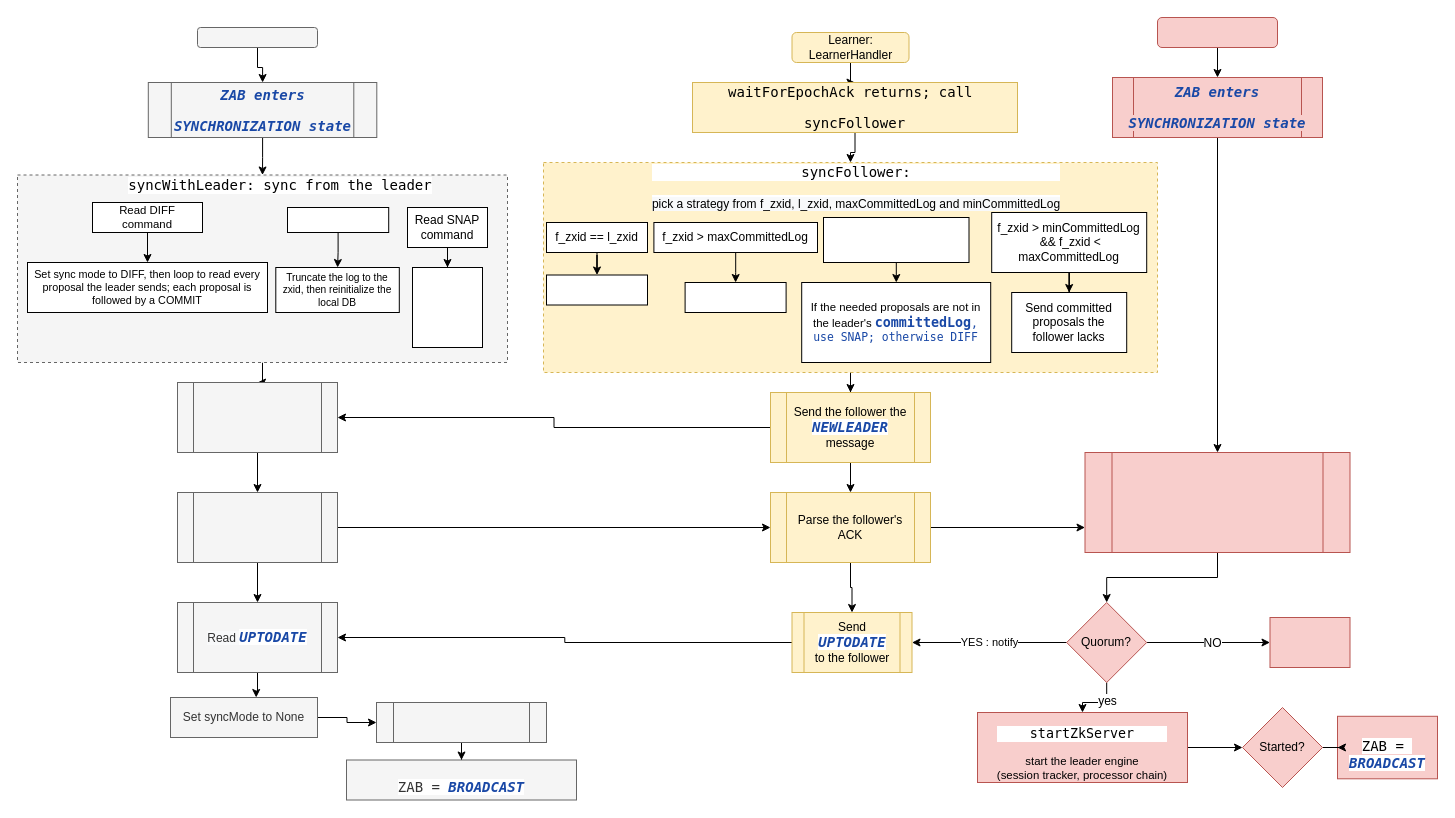
Image size: 1455x818. Some labels were removed from this diagram. Each missing label, with the centre of its shape:
"f_zxid < minCommittedLog" belongs at pixel 895 239.
"Follower" belongs at pixel 257 37.
"Leader:main" belongs at pixel 1217 32.
"Read the leader's NEWLEADER message" belongs at pixel 257 417.
"Read the snapshot from the stream" belongs at pixel 447 307.
"Read TRUNC command" belongs at pixel 337 219.
"Send an ACK for NEWLEADER" belongs at pixel 257 527.
"Send DIFF to the follower" belongs at pixel 597 289.
"Send TRUNC to the follower" belongs at pixel 735 297.
"Start the follower's server engine" belongs at pixel 461 722.
"wait" belongs at pixel 1309 642.
"waitForNewLeaderAck Wait for a quorum of participants to confirm this leader" belongs at pixel 1217 502.
